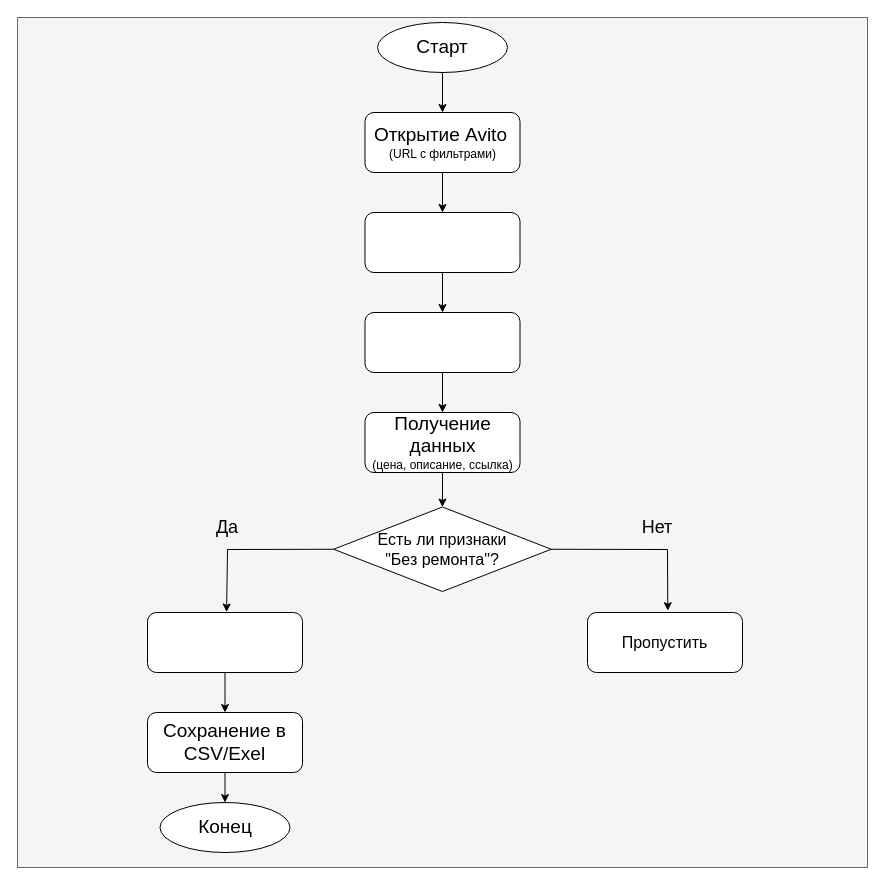
Image size: 885x885. Some labels were removed from this diagram. Here are the shapes that lost their labels. From the top down, the box of each, then its label:
(364, 212, 520, 272): Загрузка списка обьявлений
(364, 312, 520, 372): Извлечение карточек
(146, 612, 302, 672): Добавить в результат
